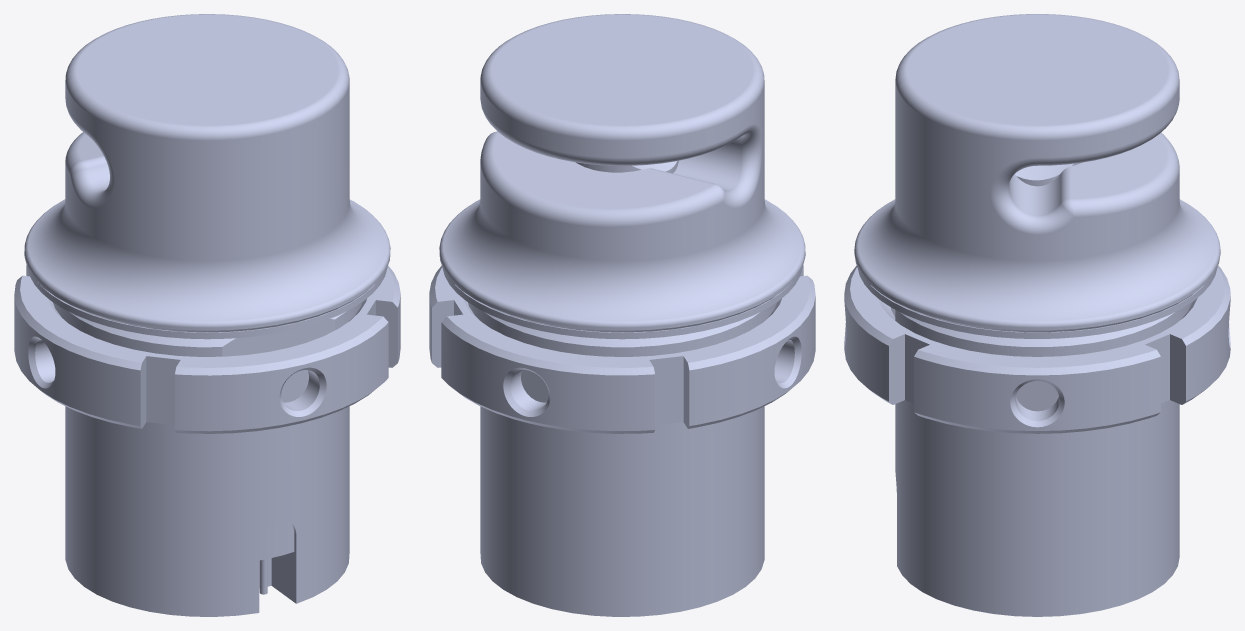
Rendered from npv3-1cp-05-24.glb.
The picture shows the model from 3 angles, left to right: view 1: azimuth 30°, elevation 25°; view 2: azimuth 150°, elevation 25°; view 3: azimuth 270°, elevation 25°; orthographic projection.
Visible parts, largest first — view 1: npv3-1cp-05-24; view 2: npv3-1cp-05-24; view 3: npv3-1cp-05-24.
Boxes of the visible parts, box(x1,y1,x2,y2) form: npv3-1cp-05-24: box(14, 14, 400, 616); npv3-1cp-05-24: box(429, 14, 815, 616); npv3-1cp-05-24: box(844, 14, 1230, 616).
Bounding box in the file's own units: 0.0431 × 0.06 × 0.0431.
